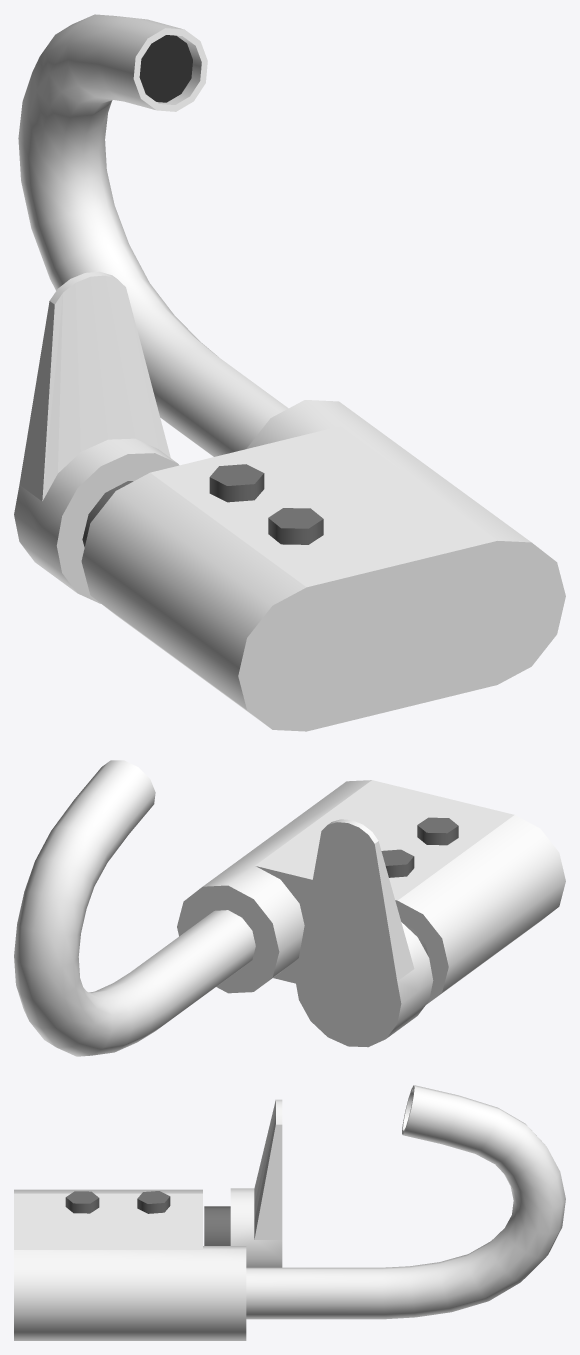
File: Fit_ShuiLongTou_1X2_off.FBX
The picture shows the model from 3 angles, top to bottom: view 1: azimuth 30°, elevation 25°; view 2: azimuth 150°, elevation 25°; view 3: azimuth 270°, elevation 25°; orthographic projection. The views are drawn at different scales.
Visible parts, largest first — view 1: Box001; view 2: Box001; view 3: Box001.
Boxes of the visible parts, <box> form: Box001: <box>14,14,565,731</box>; Box001: <box>14,760,565,1056</box>; Box001: <box>14,1085,565,1340</box>.
Size of the model in its own units: 1.05 by 1.27 by 2.53.
